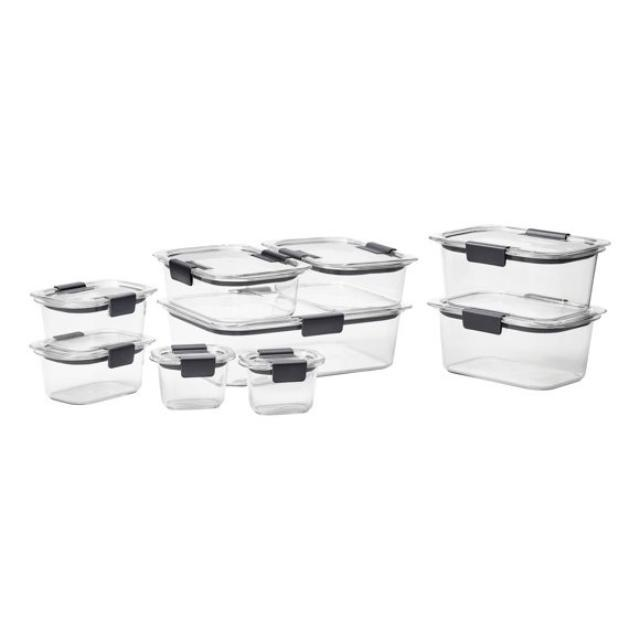plastic: (149, 237, 414, 414), (429, 226, 606, 389), (31, 281, 153, 404)
